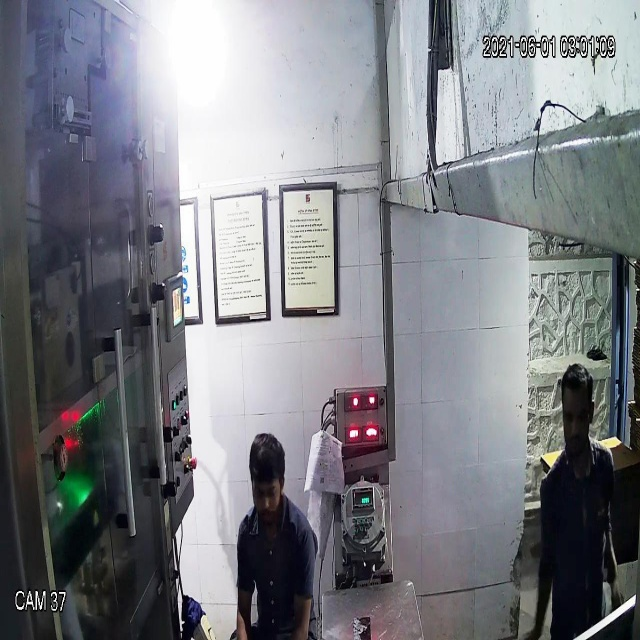Sin_gafas: (558, 396, 599, 436), (245, 472, 289, 508)
